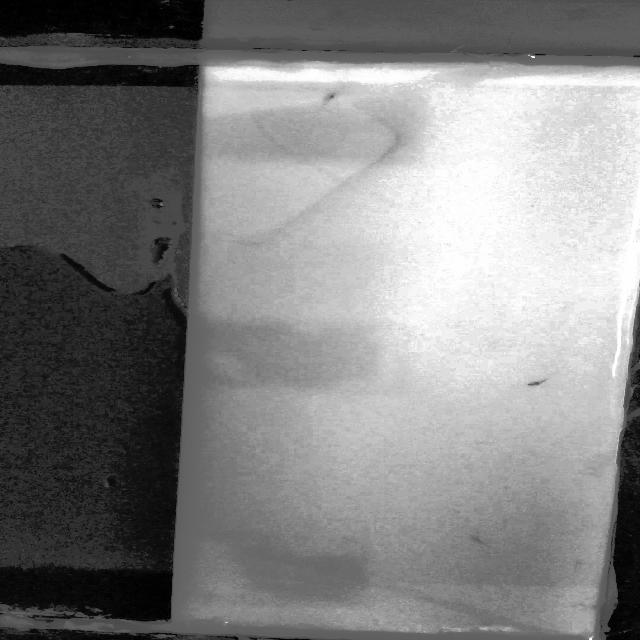shrimp: (524, 376, 554, 390), (325, 85, 349, 101), (470, 535, 497, 546)
